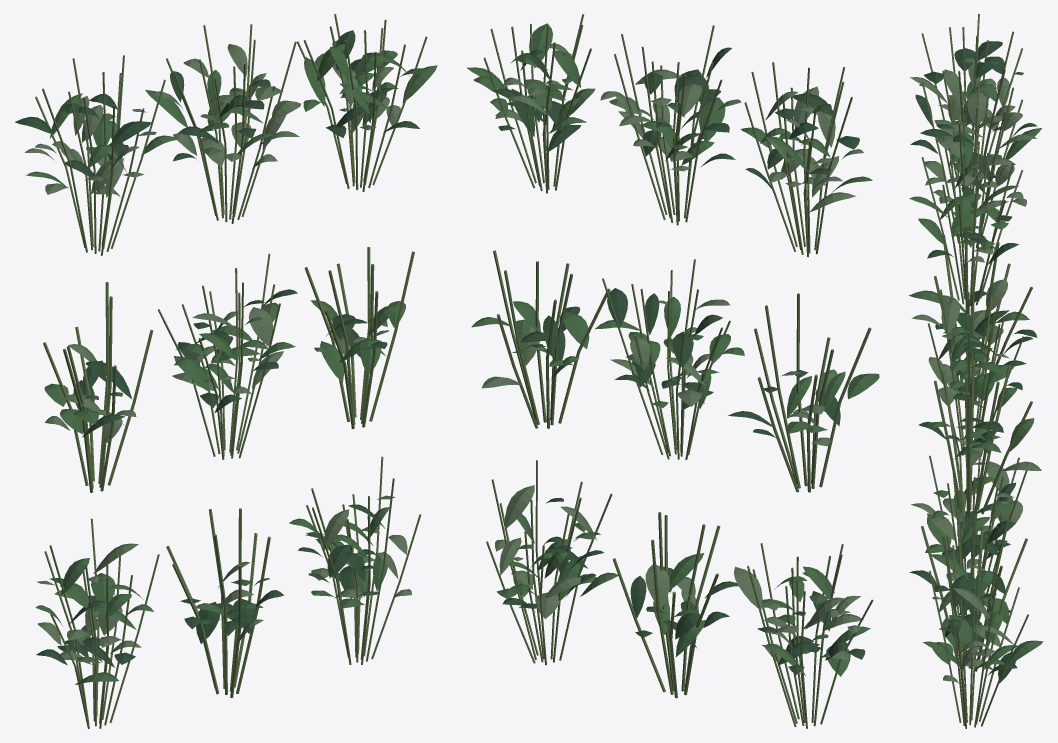
The model's file is lilac.glb.
3 renders of one model, left to right at view 1: azimuth 30°, elevation 25°; view 2: azimuth 150°, elevation 25°; view 3: azimuth 270°, elevation 25°, orthographic. The views are drawn at different scales.
Visible parts, largest first — view 1: lilac; view 2: lilac; view 3: lilac.
Boxes of the visible parts, x1,y1,x2,y2 form: lilac: [15, 14, 437, 728]; lilac: [466, 14, 879, 728]; lilac: [909, 14, 1043, 728].
Bounding box in the file's own units: 0.915 × 1.4 × 0.2934.
